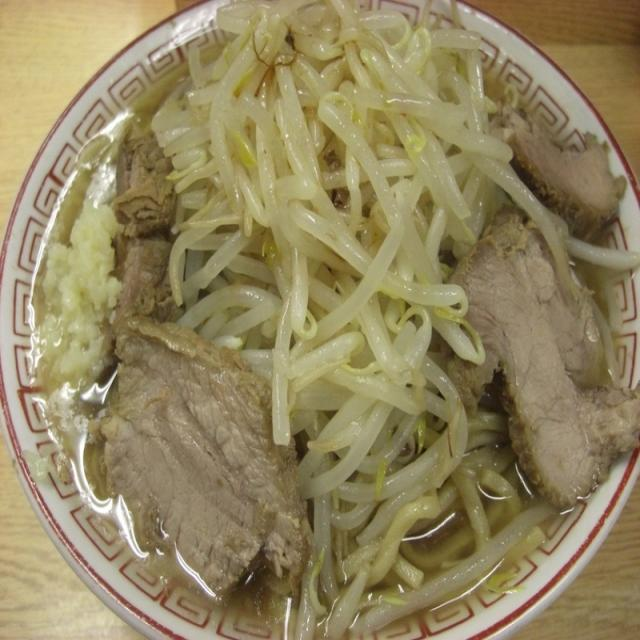面条主食: (36, 5, 627, 632)
